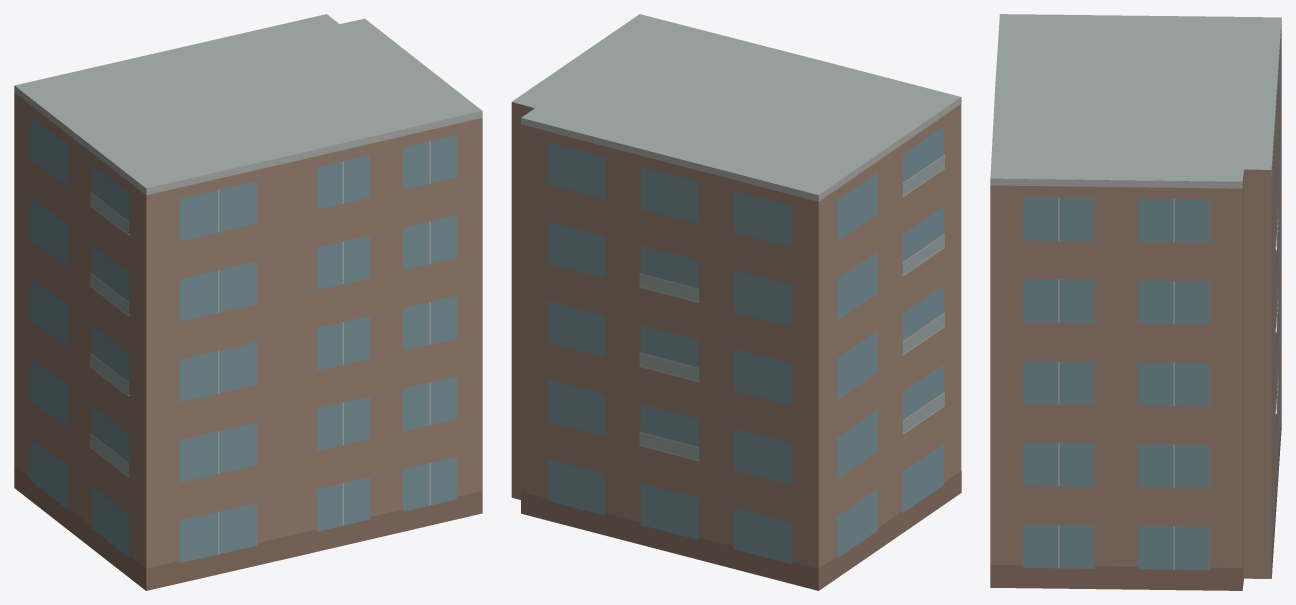
The model's file is survey-upis-32832269.glb.
The picture shows the model from 3 angles, left to right: view 1: azimuth 30°, elevation 25°; view 2: azimuth 150°, elevation 25°; view 3: azimuth 270°, elevation 25°; orthographic projection. The views are drawn at different scales.
Parts seen in each view (by area): view 1: survey-upis-32832269.tmp; view 2: survey-upis-32832269.tmp; view 3: survey-upis-32832269.tmp.
Boxes of the visible parts, <box> form: survey-upis-32832269.tmp: <box>14,14,482,590</box>; survey-upis-32832269.tmp: <box>511,14,961,590</box>; survey-upis-32832269.tmp: <box>990,14,1281,590</box>.
Bounding box in the file's own units: 12.77 × 14.5 × 9.37.
